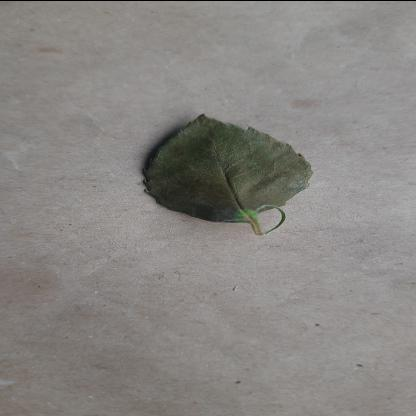black-spot: (136, 110, 316, 224)
